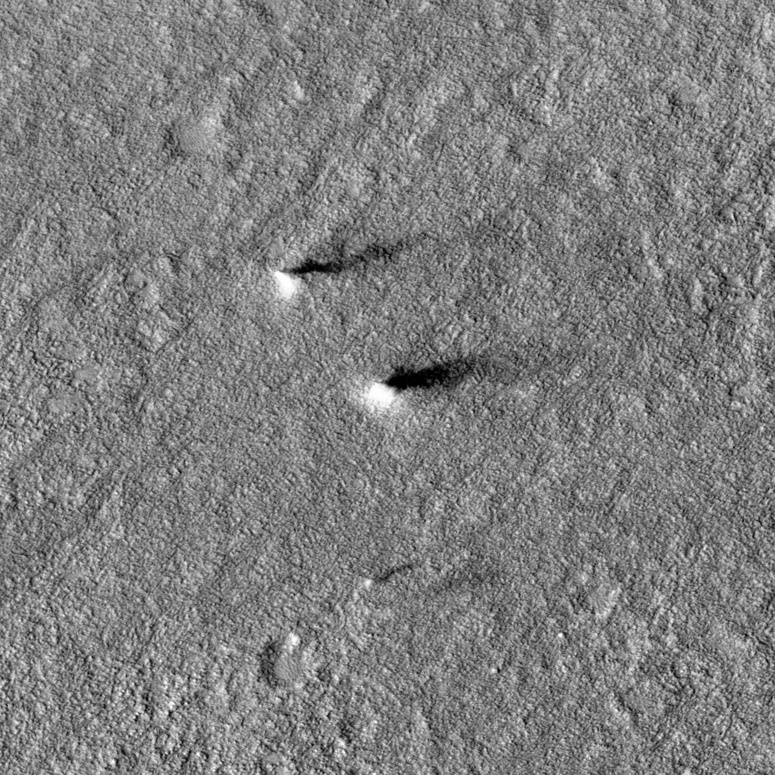dust_devil: (271, 236, 418, 302), (359, 348, 496, 414), (363, 560, 416, 592)
